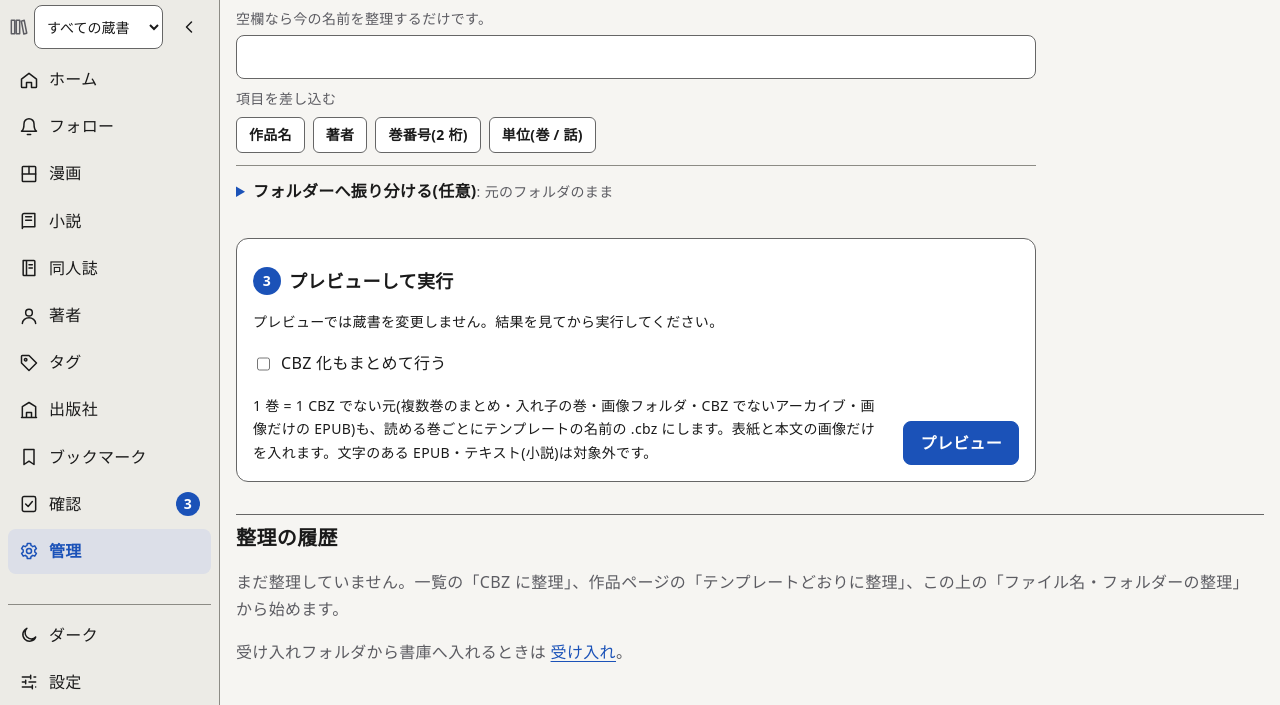
Test: 範囲指定の整理 › ファイル名の整理だけをプレビューし、実行してからまとめて元に戻せる
(page scrolled)
Click the button "プレビュー" at (961, 443), box [903, 421, 1019, 465]
(page scrolled)
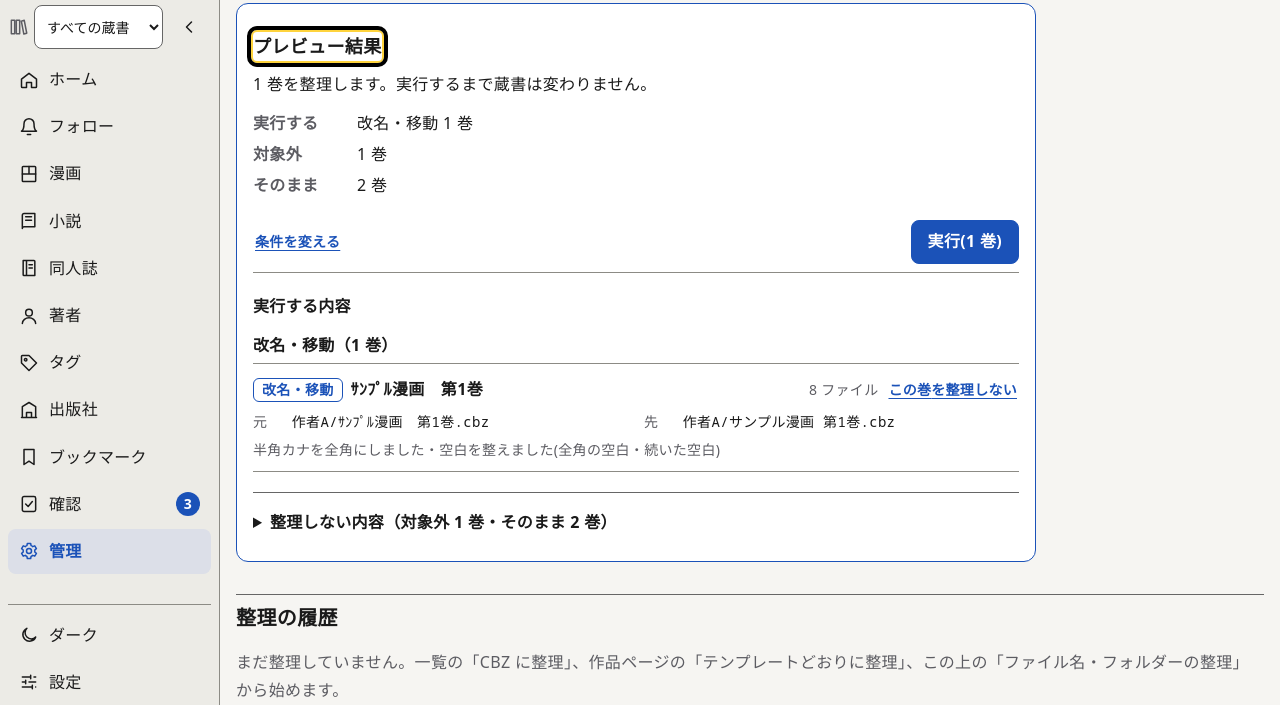
expect the text "1 巻を整理します。実行するまで蔵書は変わりません。" is shown: met, box [253, 73, 657, 95]
expect the text "改名・移動 1 巻" is shown: met, box [357, 110, 473, 137]
expect the text "対象外" is shown: met, box [253, 143, 302, 165]
# 条件を変えると先頭の欄へフォーカスが戻る
Click the button "条件を変える" at (298, 242), box [253, 226, 342, 258]
(page scrolled)
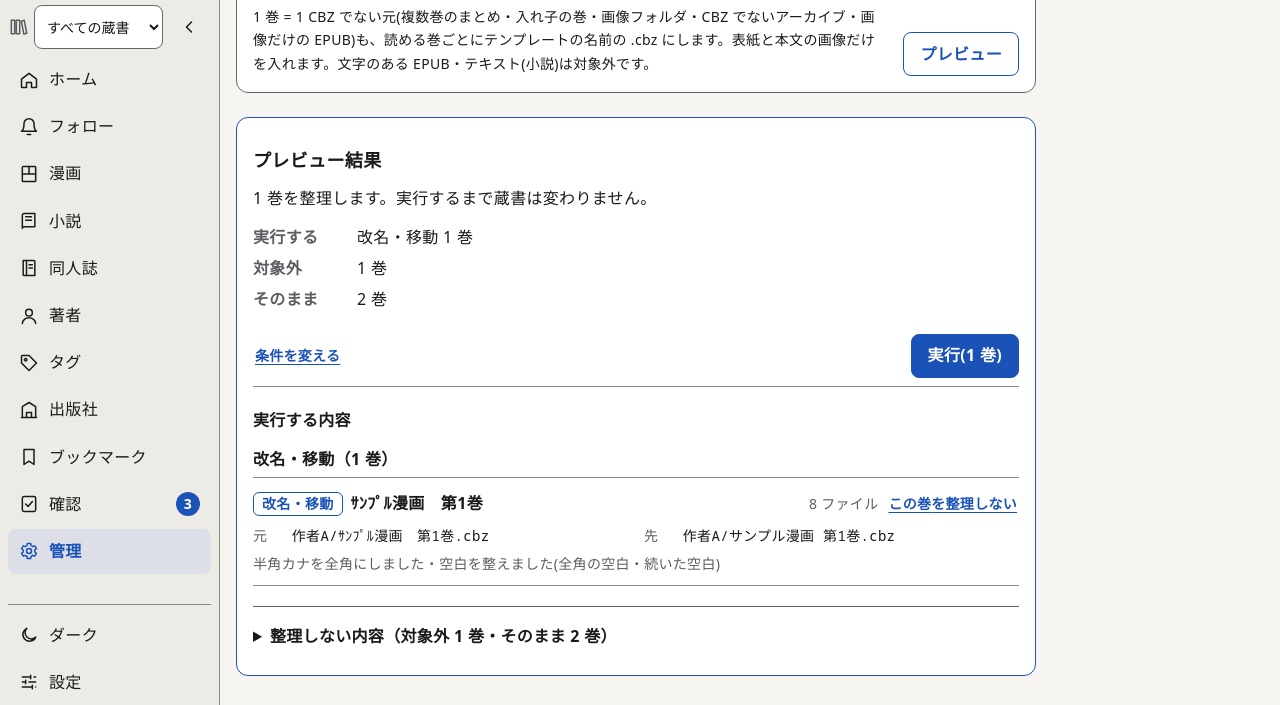
Click the button "実行(1 巻)" at (965, 356), box [911, 334, 1019, 378]
(page scrolled)
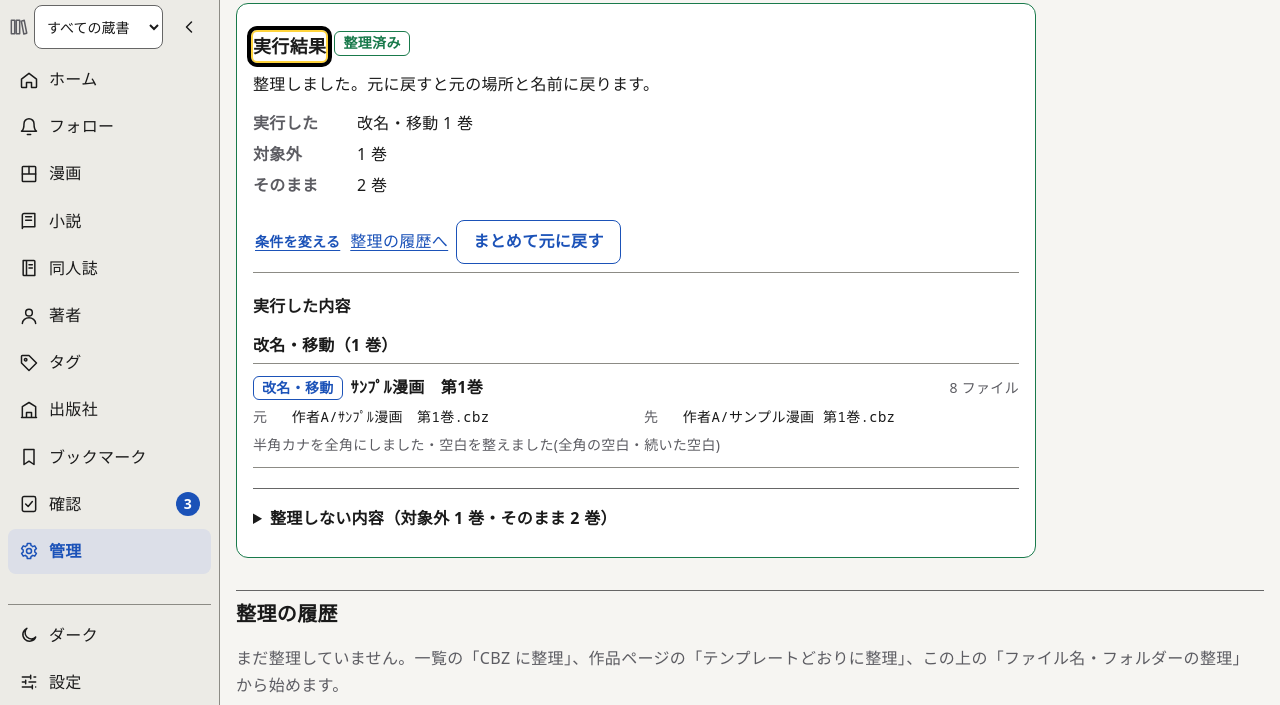
Click the button "まとめて元に戻す" at (538, 242), box [456, 220, 621, 264]
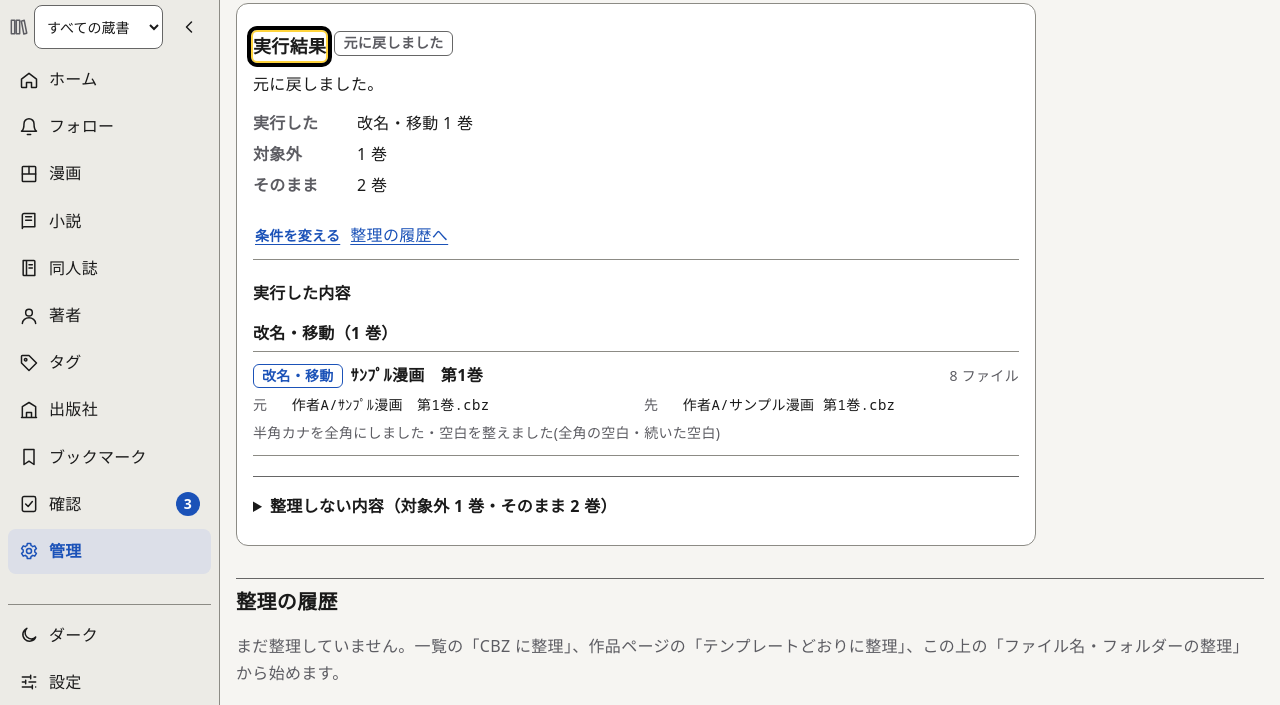
expect the text "元に戻しました" is shown: met, box [334, 31, 453, 56]
